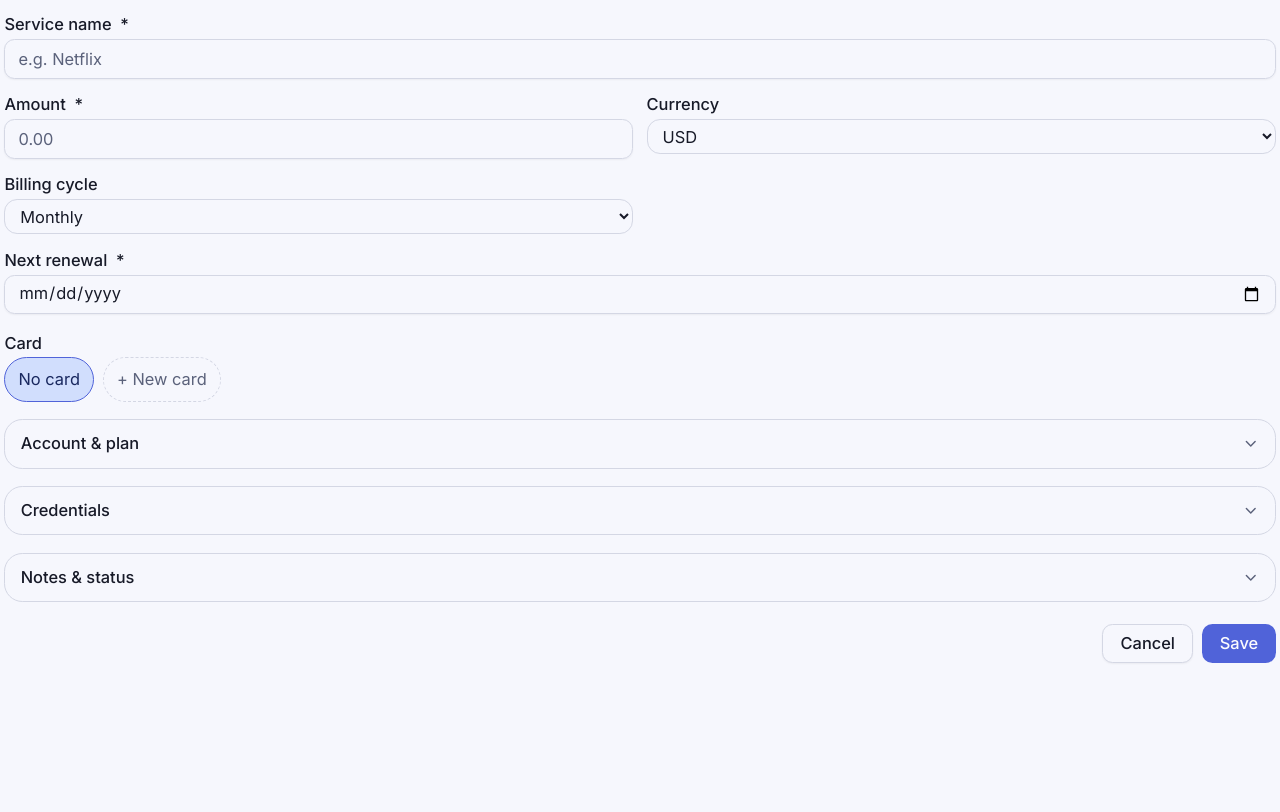
it: SubscriptionForm › shows a validation error when submitting empty
Click the button "Save" at (1239, 644), box [1202,624,1276,663]
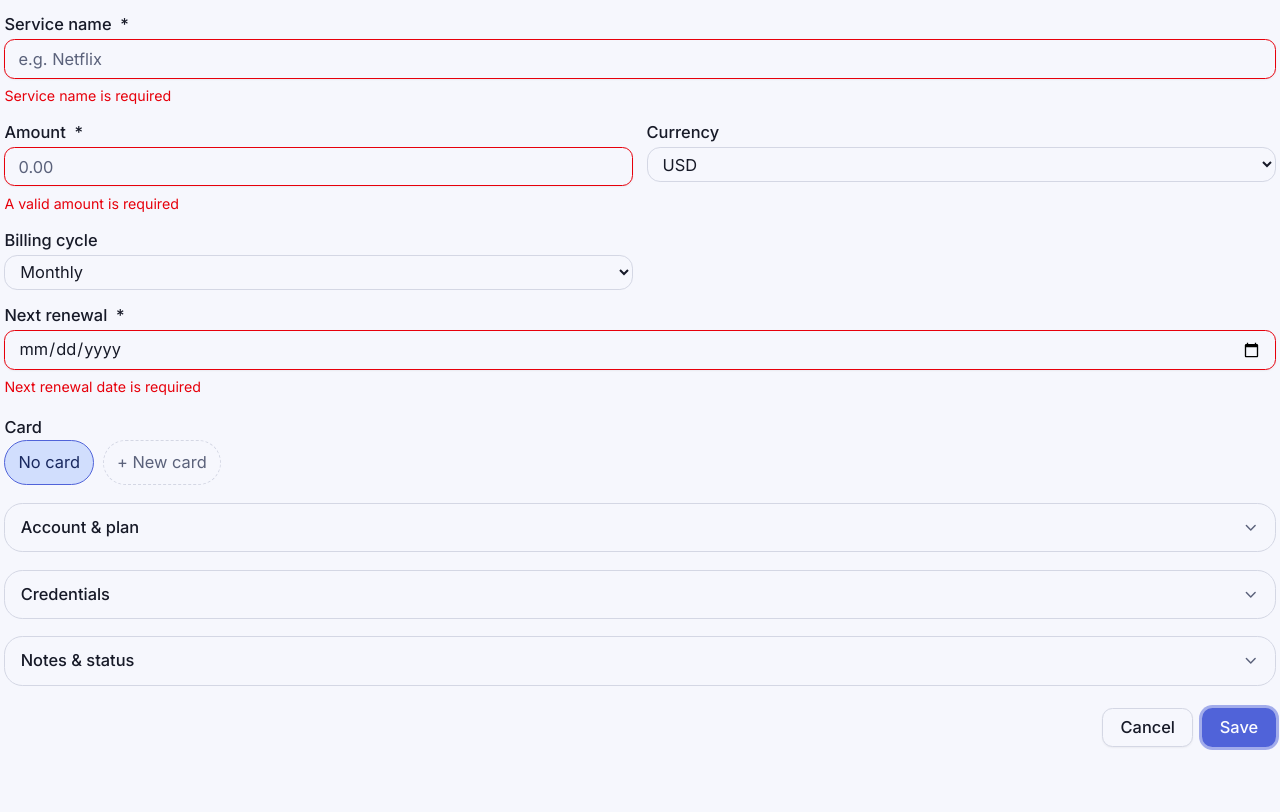
Check: the text "Service name is required" is shown, box [4,87,171,104]
